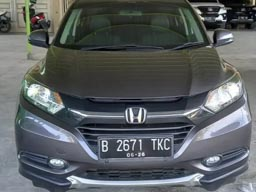plat: (98, 138, 173, 150)
